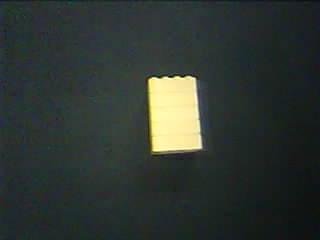lego: (145, 75, 203, 154)
